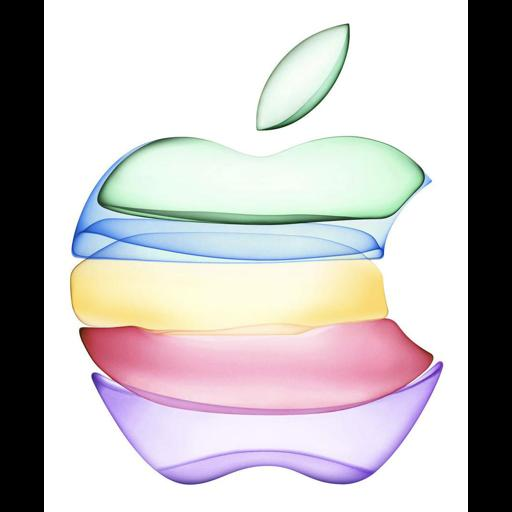Apple: (44, 0, 468, 512)
